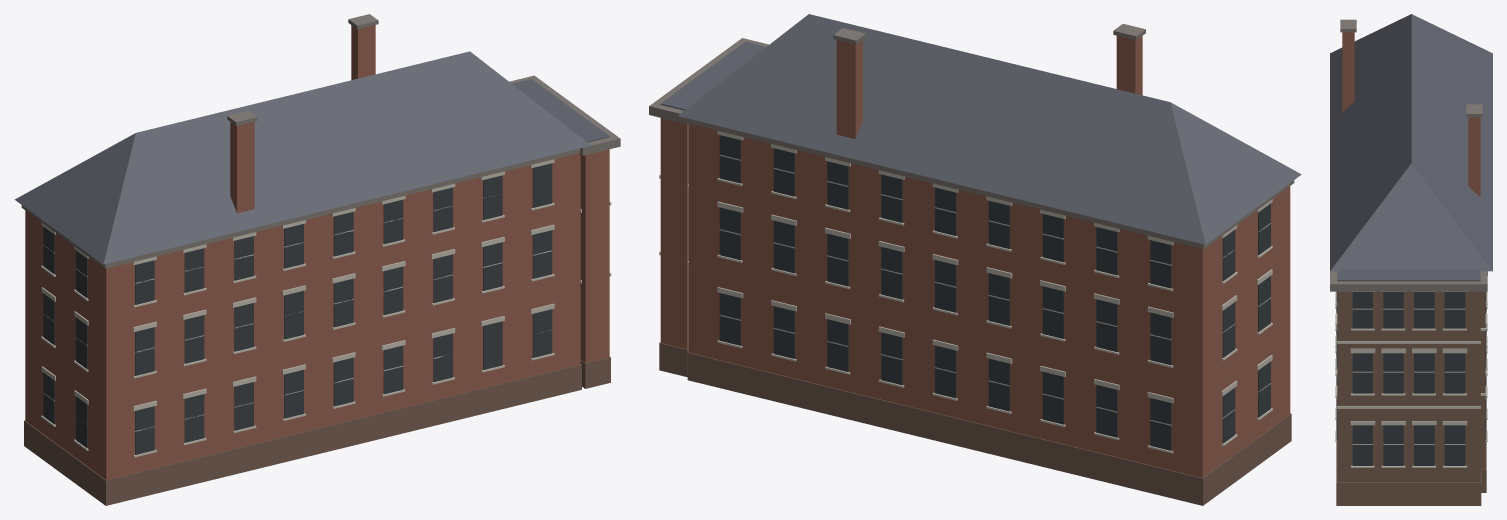
The model's file is coleman_ames_house_1811_prairie__draft_1904.glb.
3 renders of one model, left to right at view 1: azimuth 30°, elevation 25°; view 2: azimuth 150°, elevation 25°; view 3: azimuth 270°, elevation 25°, orthographic. The views are drawn at different scales.
Visible parts, largest first — view 1: coleman_ames_house_1811_prairie__draft_1904; view 2: coleman_ames_house_1811_prairie__draft_1904; view 3: coleman_ames_house_1811_prairie__draft_1904.
Boxes of the visible parts, x1,y1,x2,y2 form: coleman_ames_house_1811_prairie__draft_1904: (14,14,620,505); coleman_ames_house_1811_prairie__draft_1904: (649,14,1301,505); coleman_ames_house_1811_prairie__draft_1904: (1330,14,1492,505).
Bounding box in the file's own units: 26.7 × 17.25 × 7.95.
